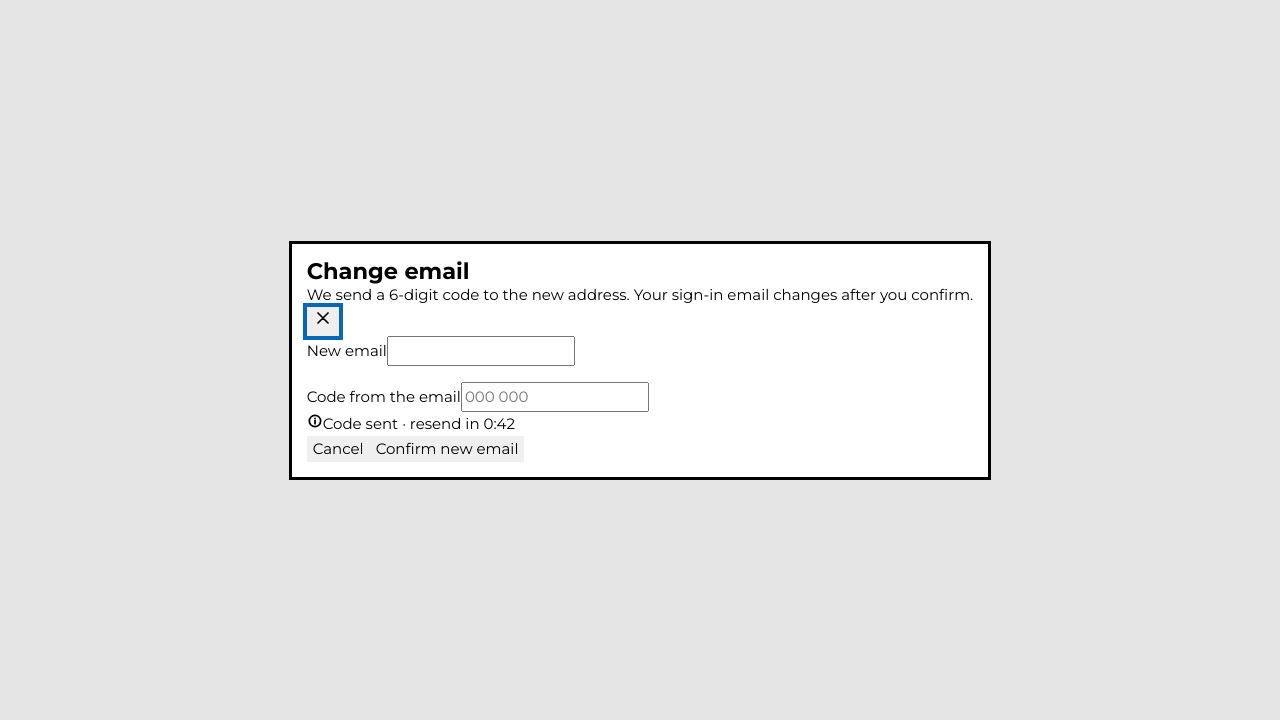
Test: EmailModal › asks for a valid email and the whole code
Type "anna@" into the field labelled "New email" at (481, 350), box [387,336,575,366]
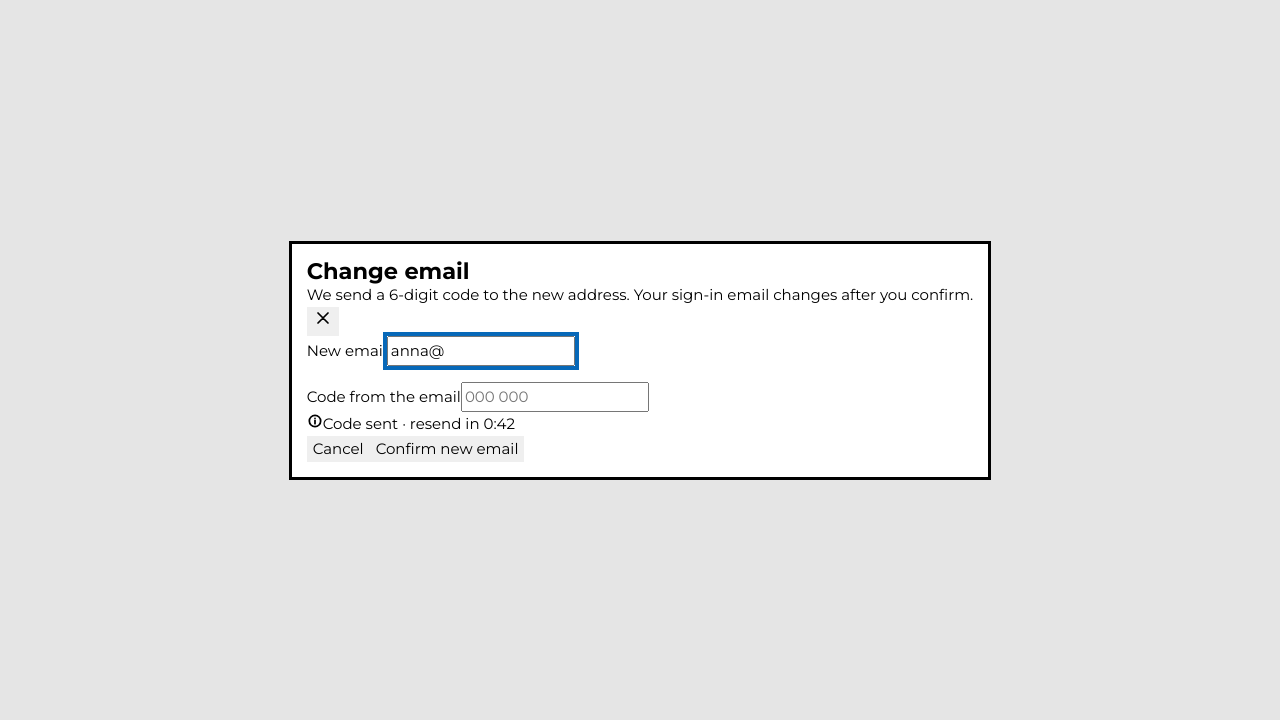
Type "48" into the field labelled "Code from the email" at (555, 396), box [461,382,649,412]
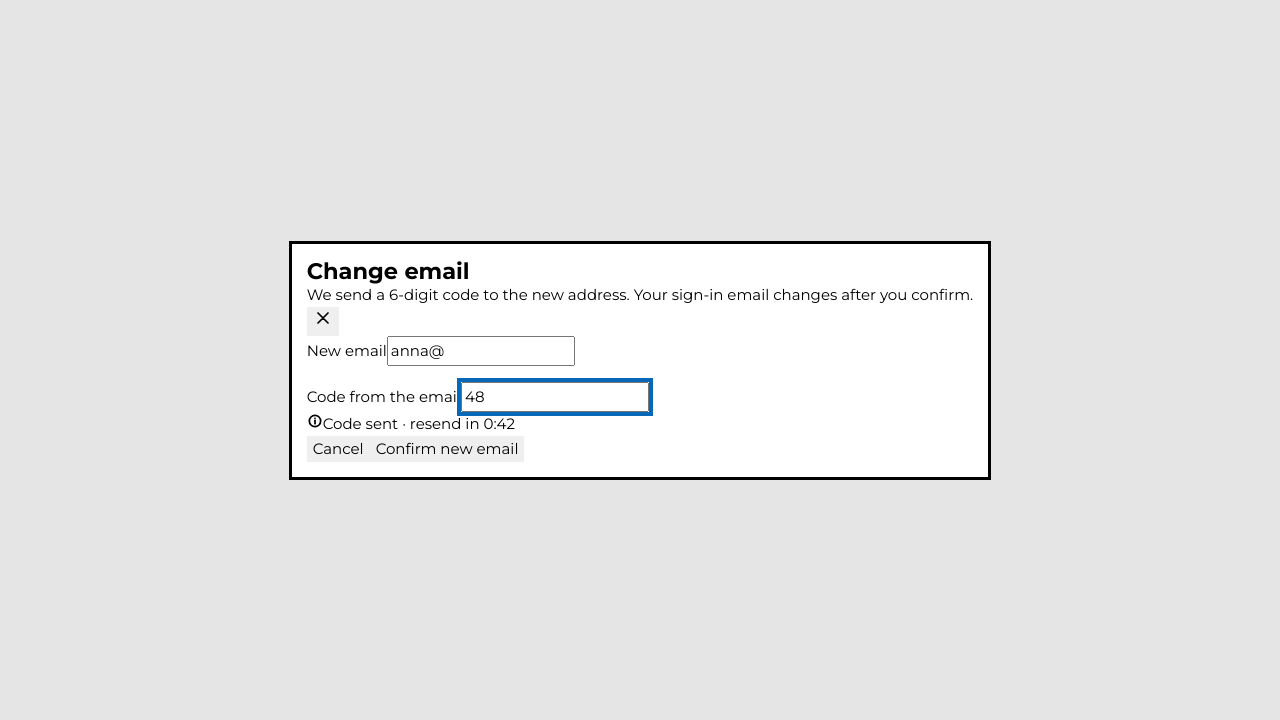
Click the button "Confirm new email" at (447, 448), box [370,436,524,462]
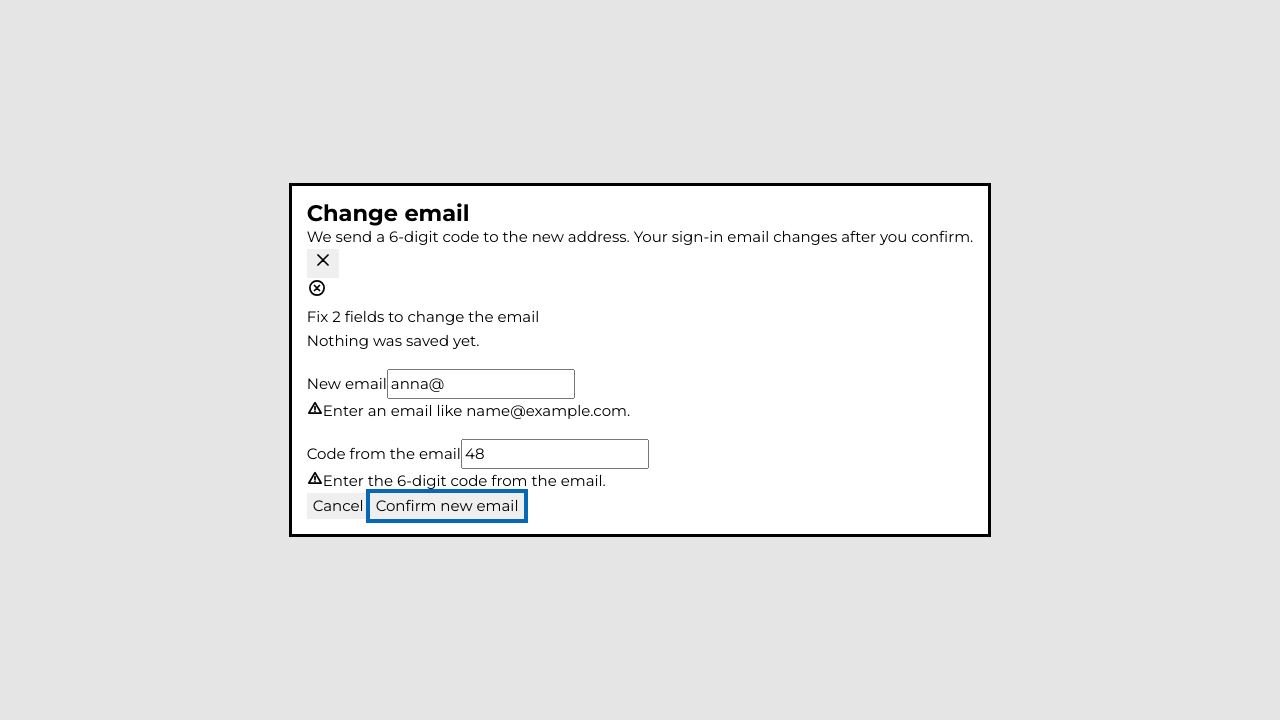
Expected: the message shows "Fix 2 fields to change the email", [307,307,539,326]
Expected: the text "Enter the 6-digit code from the email." is shown, [323,471,606,490]
